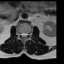CCS_stenosis: (23, 30, 25, 39)
LFS_normal: (27, 31, 29, 37)
LLS_normal: (25, 30, 27, 38)
RFS_normal: (19, 30, 21, 37)
RLS_normal: (21, 31, 23, 38)
